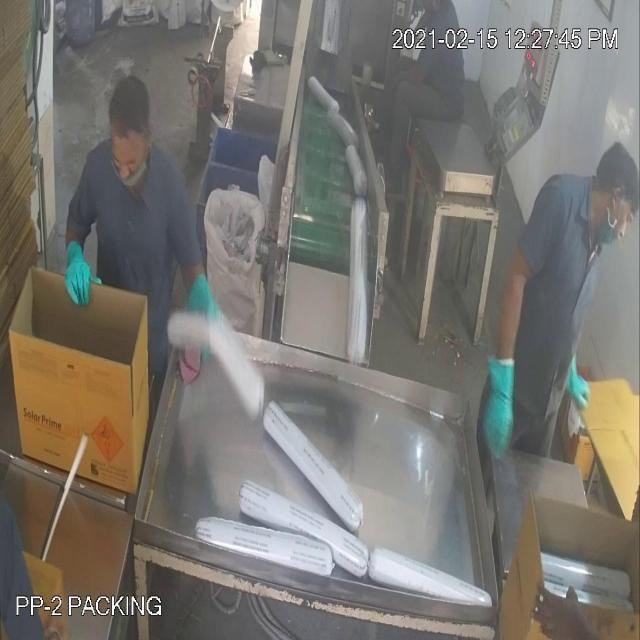Gloves: (34, 90, 577, 376)
